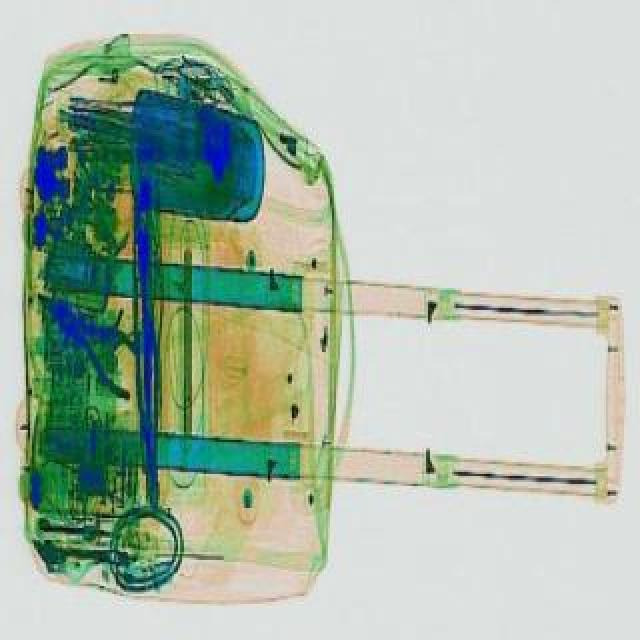wrench: (20, 272, 164, 398)
